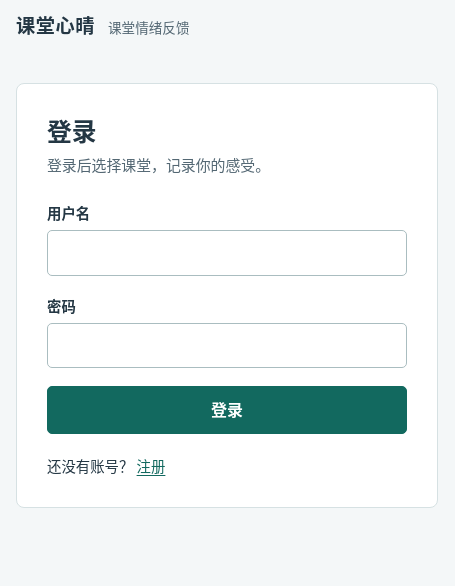
已登录请求返回 401 时清除身份并要求重新登录
The image size is (455, 586).
Type "student-a" into the field labelled "用户名" at (227, 253), box [47,230,407,276]
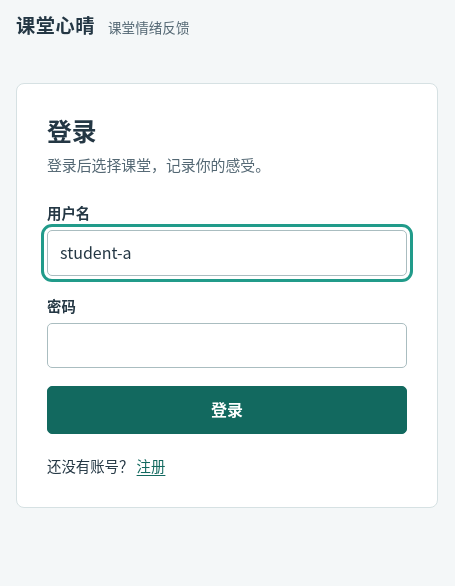
Type "password123" into the password field labelled "密码" at (227, 345), box [47,323,407,368]
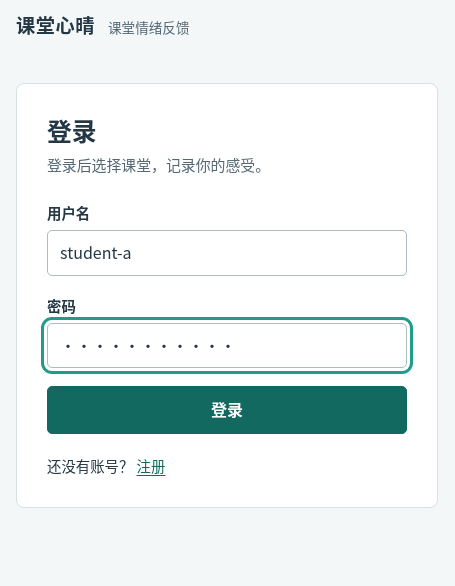
Click the button "登录" at (227, 410), box [47,386,407,434]
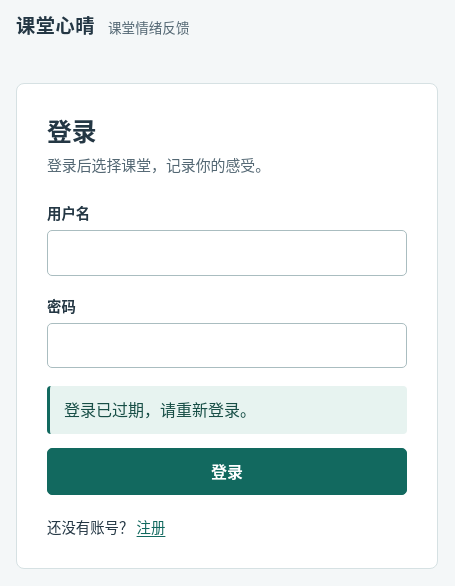
Expected: the heading "登录" is shown, [47,112,97,148]
Expected: the text "登录已过期，请重新登录。" is shown, [47,386,407,434]
